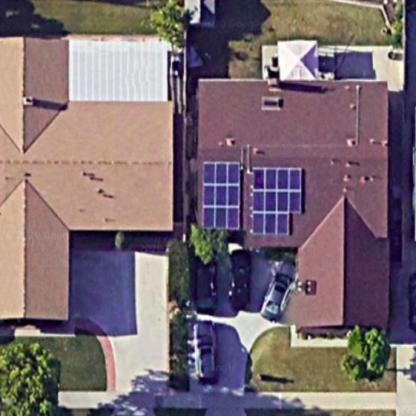car: (187, 321, 228, 387), (188, 245, 221, 315), (265, 259, 299, 325), (228, 246, 258, 318)
solar_panel: (244, 162, 316, 238), (198, 154, 247, 236)
